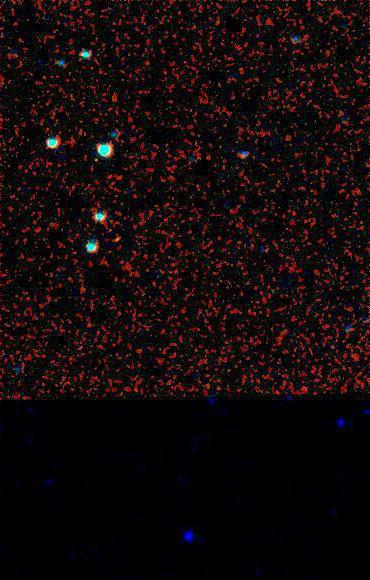star: (80, 144, 110, 174)
